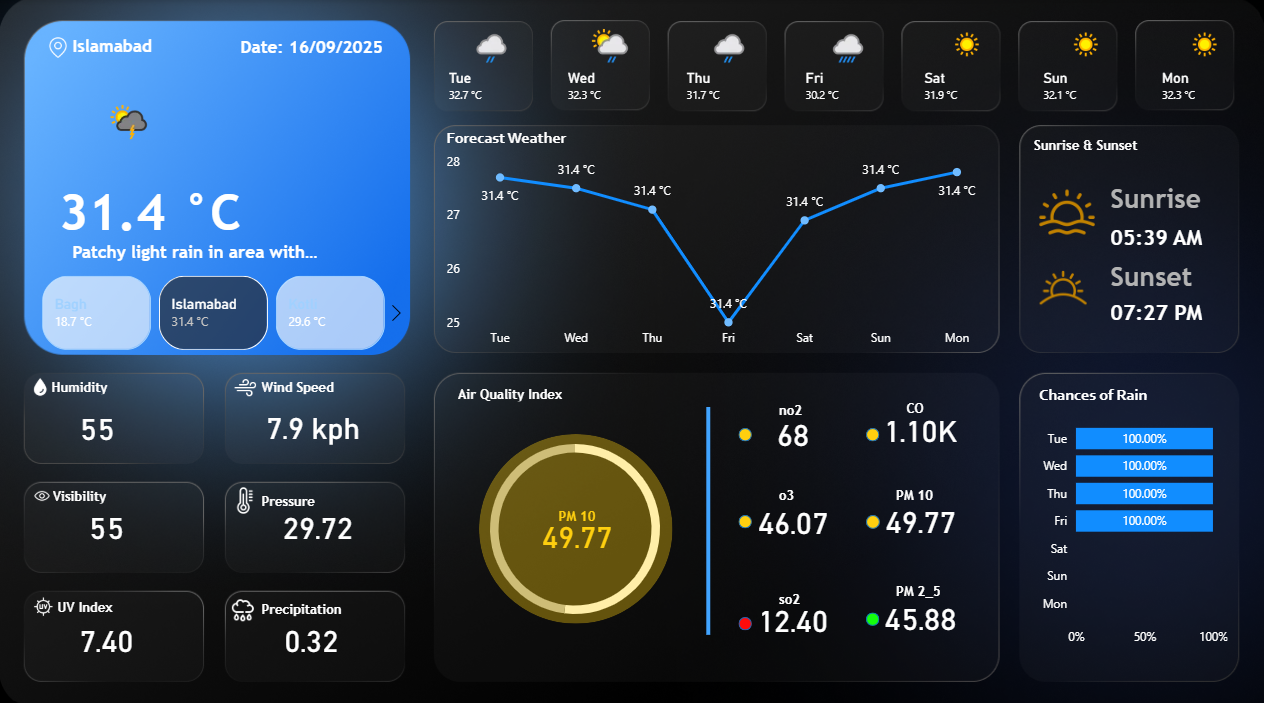

This screenshot's page, from the dashboard's own definition file:
{"tool":"powerbi","page":{"name":"Page 1","canvas":[1280,720],"ordinal":0},"visuals":[{"type":"advancedSlicerVisual","fields":{"Values":["Locations.location.name"]},"box":[18.9,274,398.7,85],"z":0},{"type":"shape","box":[60,176,220,80],"z":1000},{"type":"shape","box":[74,244,286,24],"z":2000},{"type":"shape","box":[74.5,35.5,158.2,25.5],"z":3000},{"type":"shape","box":[244,28,172,42],"z":4000},{"type":"image","box":[43.6,32.7,30.9,30.9],"z":5000},{"type":"cardVisual","fields":{"Data":["Min(Current.current.condition.icon)"]},"box":[44,70,126,106],"z":6000},{"type":"image","box":[25.6,487.8,35.6,27.8],"z":7000},{"type":"shape","box":[54.4,492.2,90,18.9],"z":8000},{"type":"image","box":[24.4,376.7,34.4,28.9],"z":9000},{"type":"shape","box":[53.3,382.2,90,18.9],"z":10000},{"type":"image","box":[28.9,597.8,32.2,30],"z":11000},{"type":"shape","box":[58.9,604.4,90,18.9],"z":12000},{"type":"image","box":[232.2,373.3,33.3,36.7],"z":13000},{"type":"shape","box":[265.6,381.1,90,18.9],"z":14000},{"type":"image","box":[225.6,487.8,45.6,36.7],"z":15000},{"type":"shape","box":[265.6,496.7,90,18.9],"z":16000},{"type":"image","box":[227.8,597.8,37.8,37.8],"z":17000},{"type":"shape","box":[265.6,605.6,90,18.9],"z":18000},{"type":"cardVisual","fields":{"Data":["Sum(Current.current.humidity)"]},"box":[38.6,391.4,122.9,77.1],"z":19000},{"type":"cardVisual","fields":{"Data":["_Measures.current_wind_speed"]},"box":[214.3,390,204.3,77.1],"z":20000},{"type":"cardVisual","fields":{"Data":["Sum(Current.current.humidity)"]},"box":[46.7,492.2,123.3,77.8],"z":21000},{"type":"cardVisual","fields":{"Data":["Sum(Current.current.pressure_in)"]},"box":[246.7,492.2,150,77.8],"z":22000},{"type":"cardVisual","fields":{"Data":["Sum(Current.current.uv)"]},"box":[46.7,605.6,123.3,77.8],"z":23000},{"type":"cardVisual","fields":{"Data":["Sum(Current.current.precip_mm)"]},"box":[246.7,605.6,137.8,77.8],"z":24000},{"type":"advancedSlicerVisual","fields":{"Values":["Forecast_Day.Day Name"]},"box":[436.5,18.9,842.8,103.9],"z":25000},{"type":"lineChart","title":"Forecast Weather","fields":{"Y":["Avg(Forecast_Day.forecast.forecastday.day.avgtemp_c)"],"Category":["Forecast_Day.Day_Name"]},"box":[447.1,130,555.7,230],"z":26000},{"type":"shape","box":[1045,130.4,132.3,34],"z":27000},{"type":"shape","box":[1122.5,175.7,109.6,51],"z":28000},{"type":"shape","box":[1122.5,215.4,109.6,51],"z":29000},{"type":"shape","box":[1122.5,255.1,109.6,51],"z":30000},{"type":"shape","box":[1122.5,291,109.6,51],"z":31000},{"type":"image","box":[1045,181.4,66.1,66.1],"z":32000},{"type":"image","box":[1037.5,255.1,73.7,73.7],"z":33000},{"type":"hundredPercentStackedBarChart","title":"Chances of Rain","fields":{"Y":["Sum(Forecast_Day.forecast.forecastday.day.daily_chance_of_rain)"],"Category":["Forecast_Day.Day_Name"]},"box":[1045,389.3,200.3,272.1],"z":34000},{"type":"shape","box":[463,381.7,132.3,34],"z":35000},{"type":"cardVisual","title":"CO","fields":{"Data":["Sum(Current.current.air_quality.co)"]},"box":[874.8,398.7,110.3,67.7],"z":36000},{"type":"cardVisual","title":"PM 10","fields":{"Data":["Sum(Current.current.air_quality.pm10)"]},"box":[874.8,485.8,110.3,77.4],"z":37000},{"type":"cardVisual","fields":{"Data":["Sum(Current.current.air_quality.pm2_5)"]},"box":[874.8,584.5,110.3,75.5],"z":38000},{"type":"cardVisual","fields":{"Data":["Sum(Current.current.air_quality.o3)"]},"box":[747.1,398.7,110.3,75.5],"z":39000},{"type":"cardVisual","fields":{"Data":["Sum(Current.current.air_quality.no2)"]},"box":[747.1,487.7,110.3,75.5],"z":40000},{"type":"cardVisual","fields":{"Data":["Sum(Current.current.air_quality.so2)"]},"box":[747.1,586.5,110.3,75.5],"z":41000},{"type":"shape","box":[915.5,396.8,56.1,32.9],"z":42000},{"type":"shape","box":[905.8,487.7,56.1,27.1],"z":43000},{"type":"shape","box":[905.8,584.5,56.1,27.1],"z":44000},{"type":"shape","box":[787.7,592.3,56.1,27.1],"z":45000},{"type":"shape","box":[787.7,487.7,56.1,27.1],"z":46000},{"type":"shape","box":[787.7,400.6,56.1,27.1],"z":47000},{"type":"shape","box":[874.8,433.6,13.5,13.5],"z":48000},{"type":"shape","box":[747.1,520.6,13.5,13.5],"z":49000},{"type":"shape","box":[747.1,433.6,13.5,13.5],"z":50000},{"type":"shape","box":[874.8,619.4,13.5,13.5],"z":51000},{"type":"shape","box":[747.1,623.2,13.5,13.5],"z":52000},{"type":"shape","box":[640.7,412.3,151,230.3],"z":53000},{"type":"cardVisual","title":"PM 10","fields":{"Data":["Sum(Current.current.air_quality.pm10)"]},"box":[528.4,501.3,110.3,77.4],"z":54000},{"type":"donutChart","title":"PM 10","fields":{"Y":["Sum(Current.current.air_quality.pm10)","Sum(Current.current.air_quality.pm2_5)"]},"box":[468.4,421.9,226.5,224.5],"z":55000},{"type":"shape","box":[483.9,439.4,195.5,191.6],"z":56000},{"type":"shape","box":[565.2,509,56.1,27.1],"z":57000},{"type":"shape","box":[875.4,521.2,14,14],"z":58000}]}

Visuals, with their boxes in screenshot pixels (x1, y1, x2, y2), scaled from the page's 1280x720 canvas onto the 1264x703 screenshot:
advancedSlicerVisual - Locations.location.name: x1=19, y1=268, x2=412, y2=351
shape: x1=59, y1=172, x2=276, y2=250
shape: x1=73, y1=238, x2=356, y2=262
shape: x1=74, y1=35, x2=230, y2=60
shape: x1=241, y1=27, x2=411, y2=68
image: x1=43, y1=32, x2=74, y2=62
cardVisual - Min(Current.current.condition.icon): x1=43, y1=68, x2=168, y2=172
image: x1=25, y1=476, x2=60, y2=503
shape: x1=54, y1=481, x2=143, y2=499
image: x1=24, y1=368, x2=58, y2=396
shape: x1=53, y1=373, x2=142, y2=392
image: x1=29, y1=584, x2=60, y2=613
shape: x1=58, y1=590, x2=147, y2=609
image: x1=229, y1=364, x2=262, y2=400
shape: x1=262, y1=372, x2=351, y2=391
image: x1=223, y1=476, x2=268, y2=512
shape: x1=262, y1=485, x2=351, y2=503
image: x1=225, y1=584, x2=262, y2=621
shape: x1=262, y1=591, x2=351, y2=610
cardVisual - Sum(Current.current.humidity): x1=38, y1=382, x2=159, y2=457
cardVisual - _Measures.current_wind_speed: x1=212, y1=381, x2=413, y2=456
cardVisual - Sum(Current.current.humidity): x1=46, y1=481, x2=168, y2=557
cardVisual - Sum(Current.current.pressure_in): x1=244, y1=481, x2=392, y2=557
cardVisual - Sum(Current.current.uv): x1=46, y1=591, x2=168, y2=667
cardVisual - Sum(Current.current.precip_mm): x1=244, y1=591, x2=380, y2=667
advancedSlicerVisual - Forecast_Day.Day Name: x1=431, y1=18, x2=1263, y2=120
"Forecast Weather" lineChart: x1=442, y1=127, x2=990, y2=352
shape: x1=1032, y1=127, x2=1163, y2=161
shape: x1=1108, y1=172, x2=1217, y2=221
shape: x1=1108, y1=210, x2=1217, y2=260
shape: x1=1108, y1=249, x2=1217, y2=299
shape: x1=1108, y1=284, x2=1217, y2=334
image: x1=1032, y1=177, x2=1097, y2=242
image: x1=1025, y1=249, x2=1097, y2=321
"Chances of Rain" hundredPercentStackedBarChart: x1=1032, y1=380, x2=1230, y2=646
shape: x1=457, y1=373, x2=588, y2=406
"CO" cardVisual: x1=864, y1=389, x2=973, y2=455
"PM 10" cardVisual: x1=864, y1=474, x2=973, y2=550
cardVisual - Sum(Current.current.air_quality.pm2_5): x1=864, y1=571, x2=973, y2=644
cardVisual - Sum(Current.current.air_quality.o3): x1=738, y1=389, x2=847, y2=463
cardVisual - Sum(Current.current.air_quality.no2): x1=738, y1=476, x2=847, y2=550
cardVisual - Sum(Current.current.air_quality.so2): x1=738, y1=573, x2=847, y2=646
shape: x1=904, y1=387, x2=959, y2=420
shape: x1=894, y1=476, x2=950, y2=503
shape: x1=894, y1=571, x2=950, y2=597
shape: x1=778, y1=578, x2=833, y2=605
shape: x1=778, y1=476, x2=833, y2=503
shape: x1=778, y1=391, x2=833, y2=418
shape: x1=864, y1=423, x2=877, y2=437
shape: x1=738, y1=508, x2=751, y2=521
shape: x1=738, y1=423, x2=751, y2=437
shape: x1=864, y1=605, x2=877, y2=618
shape: x1=738, y1=608, x2=751, y2=622
shape: x1=633, y1=403, x2=782, y2=627
"PM 10" cardVisual: x1=522, y1=489, x2=631, y2=565
"PM 10" donutChart: x1=463, y1=412, x2=686, y2=631
shape: x1=478, y1=429, x2=671, y2=616
shape: x1=558, y1=497, x2=614, y2=523
shape: x1=864, y1=509, x2=878, y2=523
